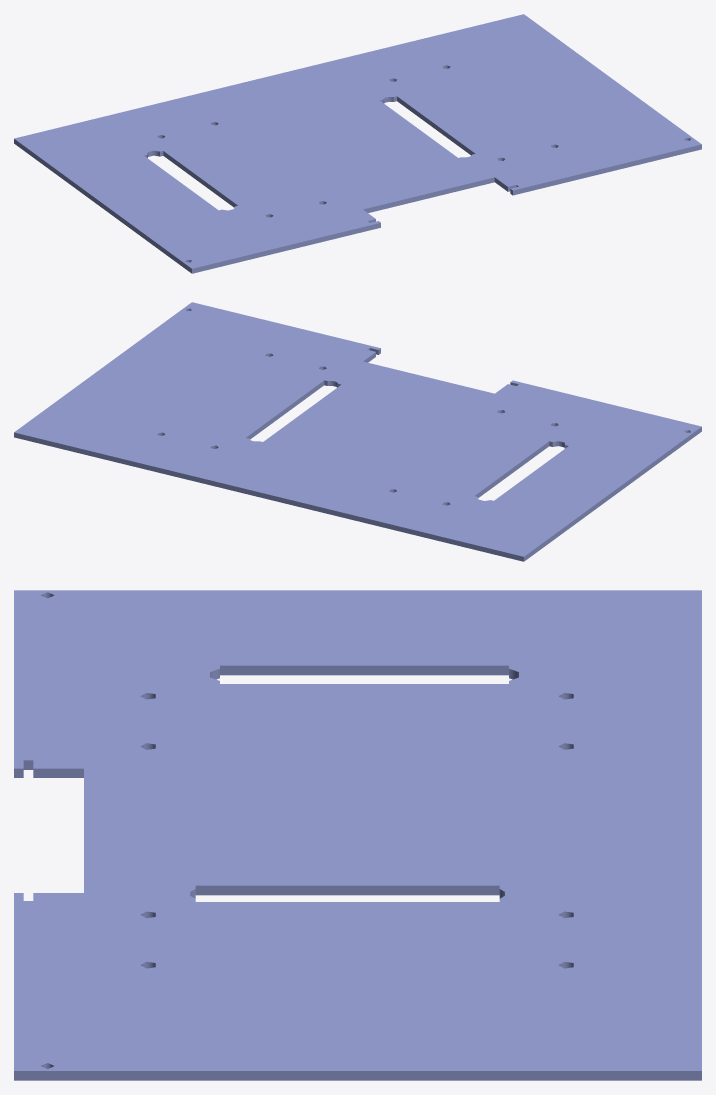
File: Copie de Bati Plaque Basse^Copie de Bati_Horloge Comtoise Verge - Sonnerie.obj
3 renders of one model, top to bottom at view 1: azimuth 30°, elevation 25°; view 2: azimuth 150°, elevation 25°; view 3: azimuth 270°, elevation 25°, orthographic. The views are drawn at different scales.
Visible parts, largest first — view 1: Face_1, Face_17, Face_5, Face_4, Face_11, Face_33; view 2: Face_1, Face_3, Face_4, Face_33, Face_29; view 3: Face_1, Face_2, Face_35, Face_31.
Boxes of the visible parts, x1=… form: Face_1: x1=14, y1=14, x2=701, y2=268; Face_17: x1=513, y1=144, x2=701, y2=195; Face_5: x1=192, y1=223, x2=380, y2=273; Face_4: x1=14, y1=139, x2=191, y2=273; Face_11: x1=363, y1=177, x2=494, y2=212; Face_33: x1=397, y1=96, x2=475, y2=155; Face_1: x1=14, y1=302, x2=701, y2=556; Face_3: x1=14, y1=432, x2=523, y2=561; Face_4: x1=524, y1=427, x2=701, y2=561; Face_33: x1=246, y1=380, x2=324, y2=439; Face_29: x1=475, y1=441, x2=549, y2=497; Face_1: x1=14, y1=590, x2=701, y2=1070; Face_2: x1=14, y1=1071, x2=701, y2=1080; Face_35: x1=195, y1=885, x2=499, y2=895; Face_31: x1=220, y1=665, x2=508, y2=675.
Bounding box in the file's own units: 0.236 × 0.0022 × 0.1427.
